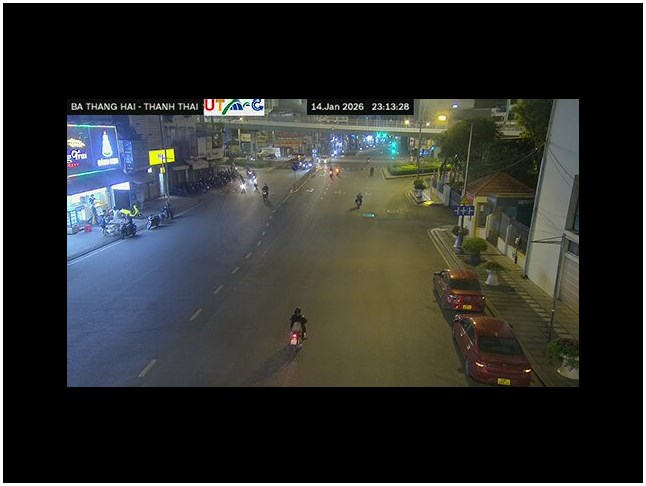car: (451, 312, 536, 386), (432, 267, 486, 317)
motorbike: (290, 307, 310, 348), (261, 185, 272, 200), (354, 194, 363, 209)
